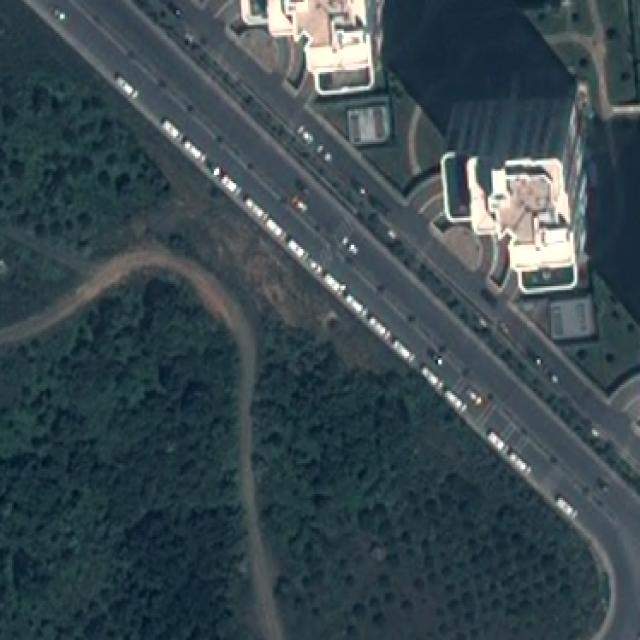Batiment: (441, 153, 577, 295), (241, 0, 375, 95)
